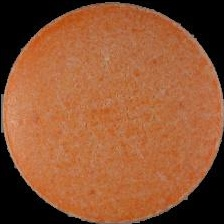49884-027: (0, 0, 224, 224)
